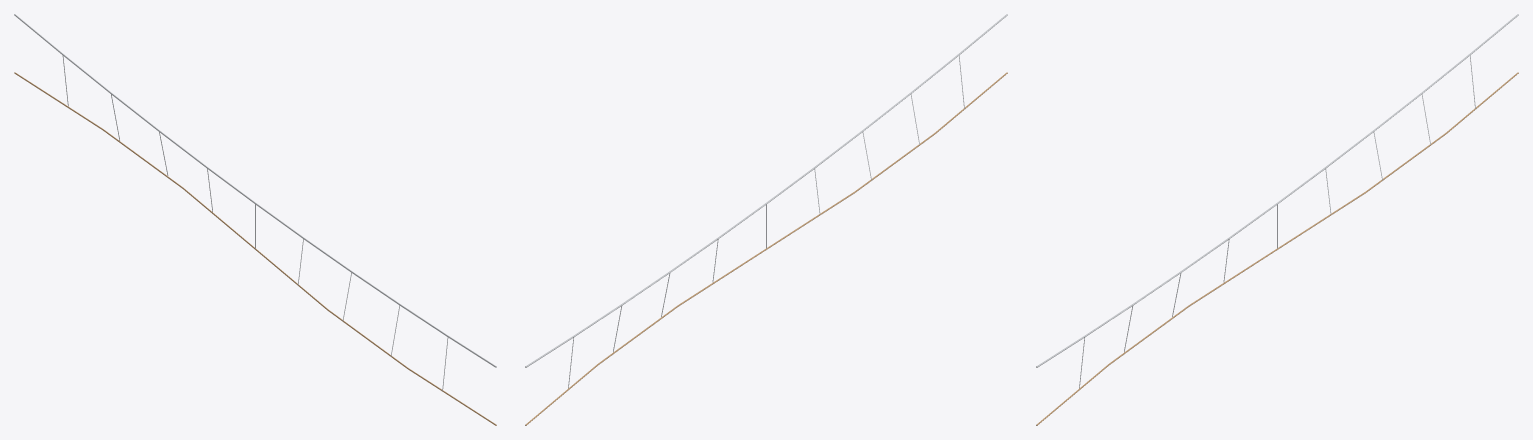
Rendered from modern-rail-and-metro-network-contact-wire-run-cf7cd9ff__13691.glb.
The picture shows the model from 3 angles, left to right: view 1: azimuth 30°, elevation 25°; view 2: azimuth 150°, elevation 25°; view 3: azimuth 330°, elevation 25°; orthographic projection.
Visible parts, largest first — view 1: contact-wire-run; view 2: contact-wire-run; view 3: contact-wire-run.
Part boxes in pixels (x1,y1,x2,y2): contact-wire-run: [14, 14, 496, 425]; contact-wire-run: [525, 14, 1007, 425]; contact-wire-run: [1036, 14, 1518, 425].
Size of the model in its own units: 0.3956 by 1.23 by 18.
